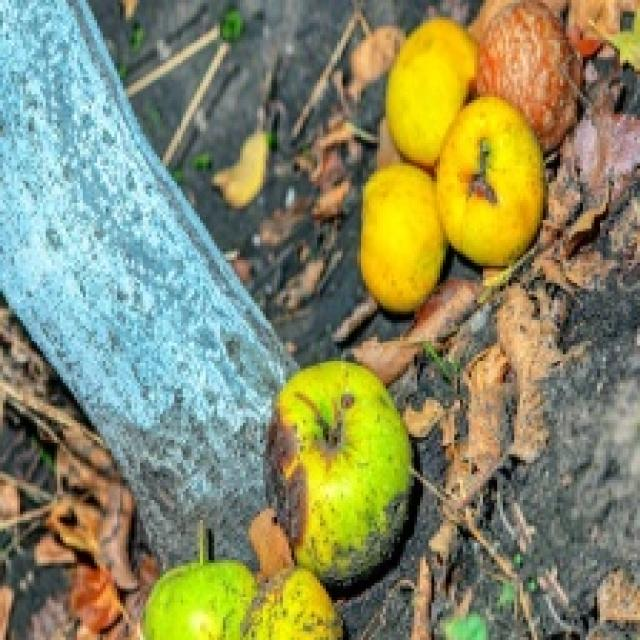rotten_apple: (264, 362, 416, 576), (480, 1, 579, 140)
